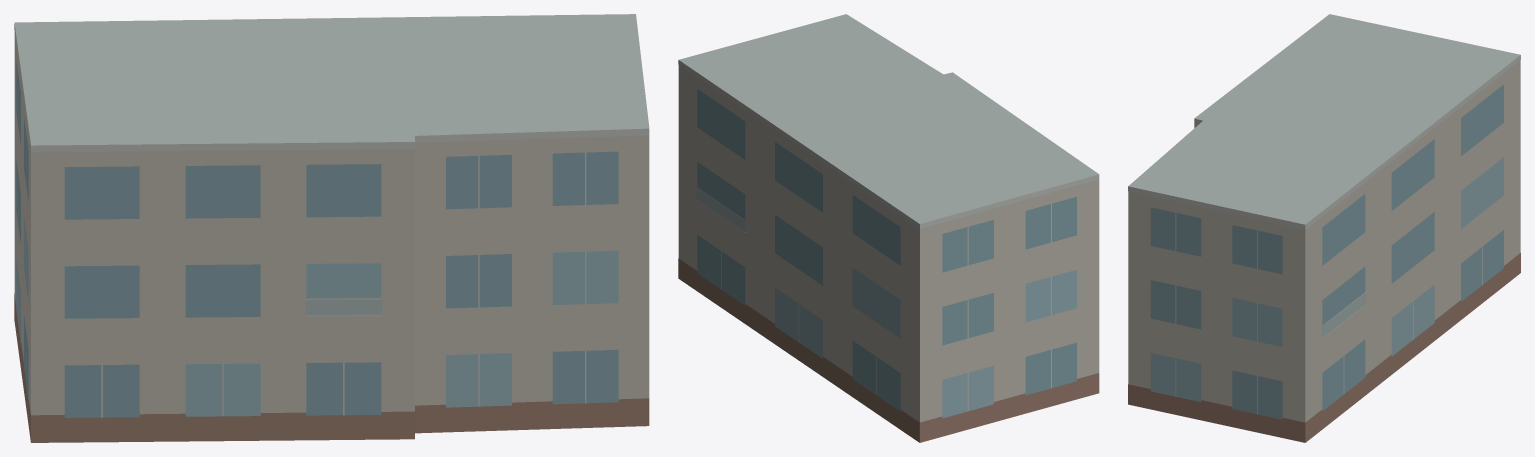
File: survey-upis-32537694.glb
3 views of the same model, side by side, from view 1: azimuth 30°, elevation 25°; view 2: azimuth 150°, elevation 25°; view 3: azimuth 270°, elevation 25° (orthographic). The views are drawn at different scales.
Visible parts, largest first — view 1: survey-upis-32537694.tmp; view 2: survey-upis-32537694.tmp; view 3: survey-upis-32537694.tmp.
Boxes of the visible parts, bbox=[...] form: survey-upis-32537694.tmp: bbox=[14, 14, 649, 442]; survey-upis-32537694.tmp: bbox=[678, 14, 1099, 442]; survey-upis-32537694.tmp: bbox=[1128, 14, 1520, 442].
Bounding box in the file's own units: 22.37 × 10.8 × 17.62.
